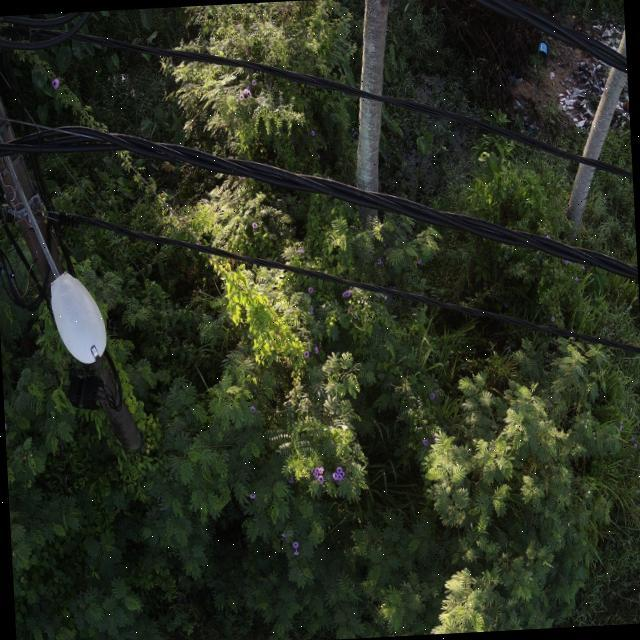critical vegetation: (15, 31, 308, 381)
